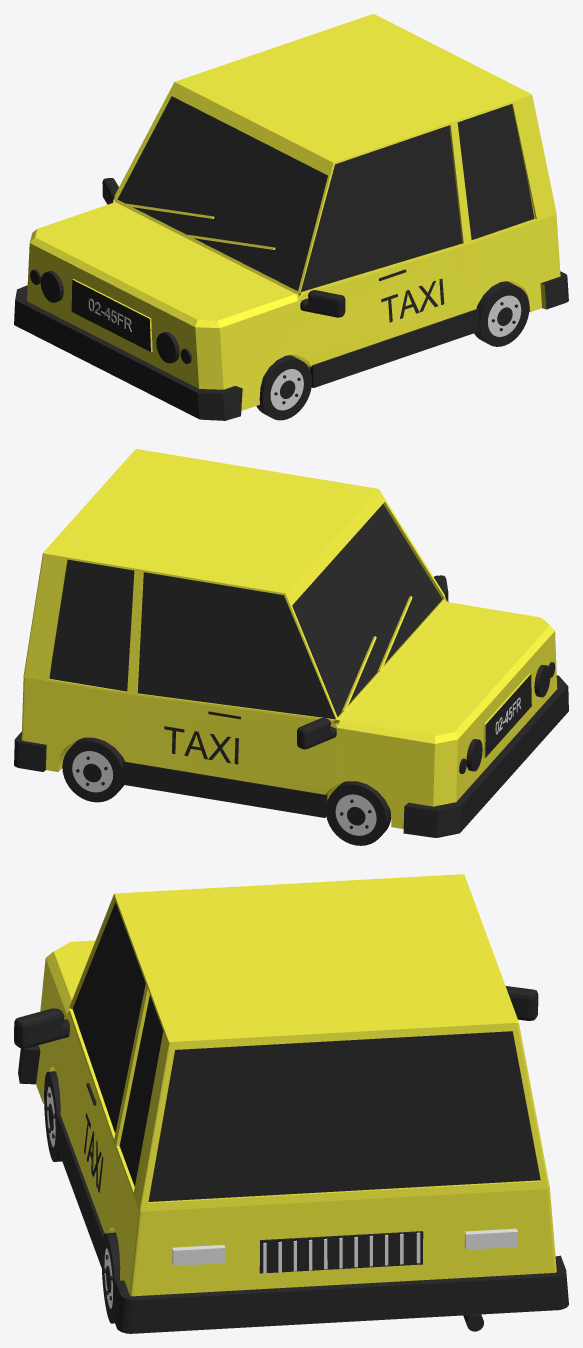
The picture shows the model from 3 angles, top to bottom: view 1: azimuth 30°, elevation 25°; view 2: azimuth 150°, elevation 25°; view 3: azimuth 270°, elevation 25°; orthographic projection. The views are drawn at different scales.
Parts seen in each view (by area): view 1: Box33023, Object3113, Object3105, Box33007, Object3110, Cylinder5499, Cylinder5495, Box33012, Object3107, Object3109, Object3111, Text100 (+2 smaller); view 2: Box33023, Object3113, Object3105, Box33028, Cylinder5496, Cylinder5509, Object3110, Object3106, Object3112, Object3111, Box33008, Text101; view 3: Box33023, Object3108, Object3111, Object3113, Box33010, Box33007, Box33012, Box33011, Box33022, Cylinder5499, Cylinder5495, Box33008 (+1 smaller).
Boxes of the visible parts, x1=… form: Box33023: x1=27, y1=14, x2=560, y2=410; Object3113: x1=117, y1=96, x2=534, y2=291; Object3105: x1=14, y1=285, x2=242, y2=420; Box33007: x1=309, y1=308, x2=479, y2=387; Object3110: x1=71, y1=279, x2=150, y2=351; Cylinder5499: x1=474, y1=281, x2=529, y2=346; Cylinder5495: x1=256, y1=355, x2=312, y2=420; Box33012: x1=300, y1=290, x2=345, y2=317; Object3107: x1=488, y1=295, x2=521, y2=336; Object3109: x1=270, y1=369, x2=303, y2=410; Object3111: x1=541, y1=271, x2=568, y2=309; Text100: x1=381, y1=278, x2=444, y2=322; Box33023: x1=21, y1=449, x2=557, y2=828; Object3113: x1=49, y1=504, x2=442, y2=719; Object3105: x1=403, y1=675, x2=568, y2=837; Box33028: x1=122, y1=760, x2=327, y2=817; Cylinder5496: x1=325, y1=781, x2=391, y2=845; Cylinder5509: x1=62, y1=737, x2=124, y2=802; Object3110: x1=485, y1=674, x2=531, y2=757; Object3106: x1=335, y1=794, x2=376, y2=835; Object3112: x1=72, y1=751, x2=113, y2=792; Object3111: x1=14, y1=731, x2=46, y2=771; Box33008: x1=297, y1=718, x2=336, y2=749; Text101: x1=164, y1=726, x2=238, y2=764; Box33023: x1=36, y1=874, x2=556, y2=1296; Object3108: x1=148, y1=1031, x2=540, y2=1201; Object3111: x1=111, y1=1255, x2=568, y2=1333; Object3113: x1=72, y1=902, x2=163, y2=1186; Box33010: x1=259, y1=1231, x2=423, y2=1273; Box33007: x1=56, y1=1115, x2=104, y2=1267; Box33012: x1=14, y1=1008, x2=69, y2=1048; Box33011: x1=172, y1=1245, x2=225, y2=1265; Box33022: x1=464, y1=1228, x2=517, y2=1249; Cylinder5499: x1=101, y1=1232, x2=120, y2=1323; Cylinder5495: x1=44, y1=1071, x2=61, y2=1161; Box33008: x1=505, y1=986, x2=538, y2=1020.
Bounding box in the file's own units: 1931 × 951 × 1513.
